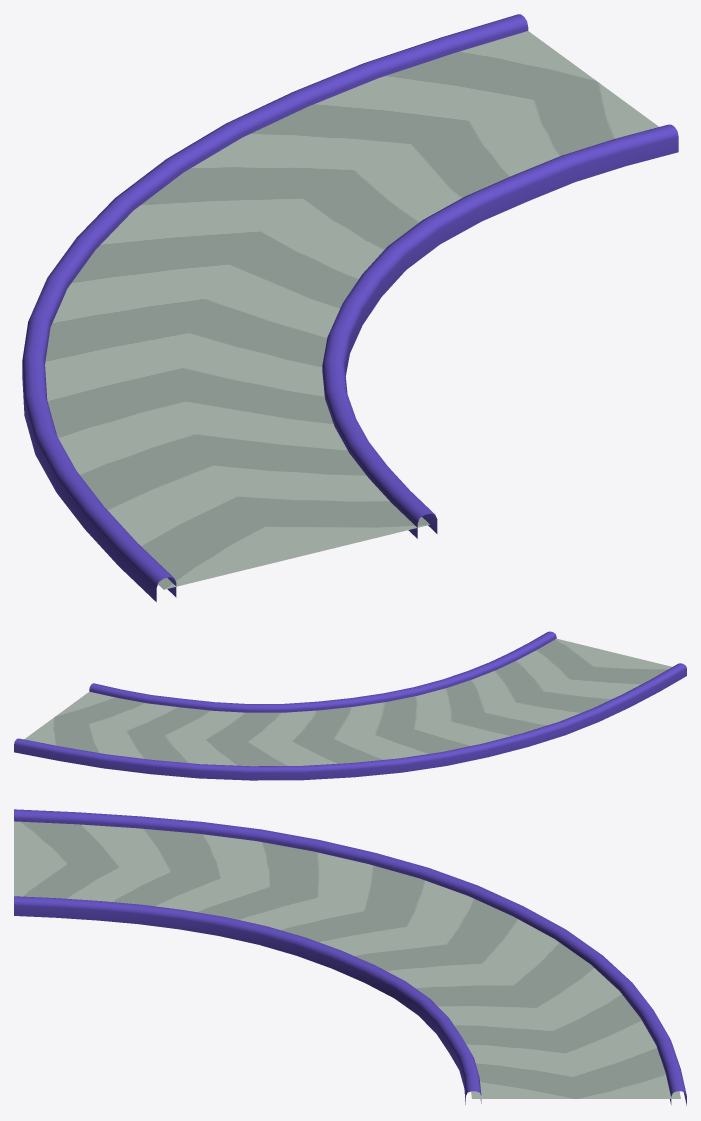
File: _oad2 (2).fbx
The picture shows the model from 3 angles, top to bottom: view 1: azimuth 30°, elevation 25°; view 2: azimuth 150°, elevation 25°; view 3: azimuth 270°, elevation 25°; orthographic projection. The views are drawn at different scales.
Visible parts, largest first — view 1: polySurface5, polySurface6; view 2: polySurface5, polySurface6; view 3: polySurface5, polySurface6.
Part boxes in pixels (box(x1,y1,x2,y2)): polySurface5: box(45, 31, 658, 589); polySurface6: box(22, 14, 678, 601); polySurface5: box(24, 638, 671, 766); polySurface6: box(14, 631, 686, 780); polySurface5: box(14, 821, 680, 1098); polySurface6: box(14, 809, 686, 1105).
Bounding box in the file's own units: 7997 × 200 × 8005.
